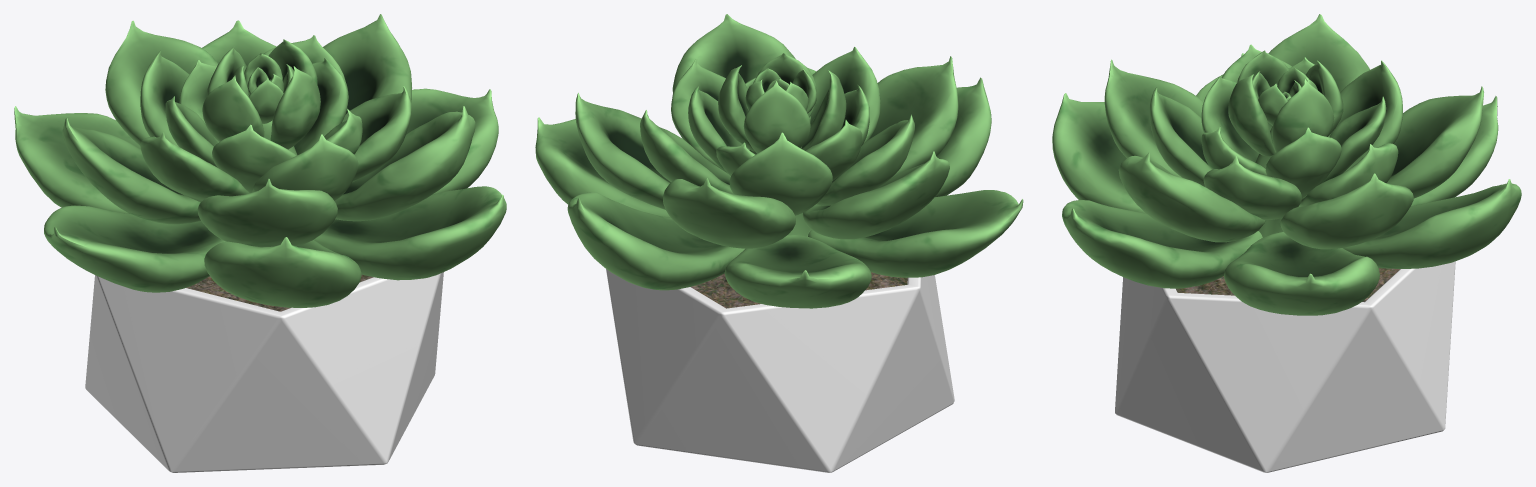
File: SmallPlant2.glb
3 renders of one model, left to right at view 1: azimuth 30°, elevation 25°; view 2: azimuth 150°, elevation 25°; view 3: azimuth 270°, elevation 25°, orthographic. The views are drawn at different scales.
Visible parts, largest first — view 1: succulent plant, Succulent plant, ground real; view 2: succulent plant, Succulent plant, ground real; view 3: succulent plant, Succulent plant, ground real.
Part boxes in pixels (x1,y1,x2,y2): succulent plant: (14,14,506,307); Succulent plant: (85,272,443,472); ground real: (186,274,373,311); succulent plant: (535,14,1023,308); Succulent plant: (606,269,954,472); ground real: (691,272,907,308); succulent plant: (1052,14,1521,315); Succulent plant: (1115,261,1455,472); ground real: (1176,268,1400,301).
Size of the model in its own units: 0.1457 by 0.1044 by 0.1325.
Materials: 3 (2 with a texture image).
